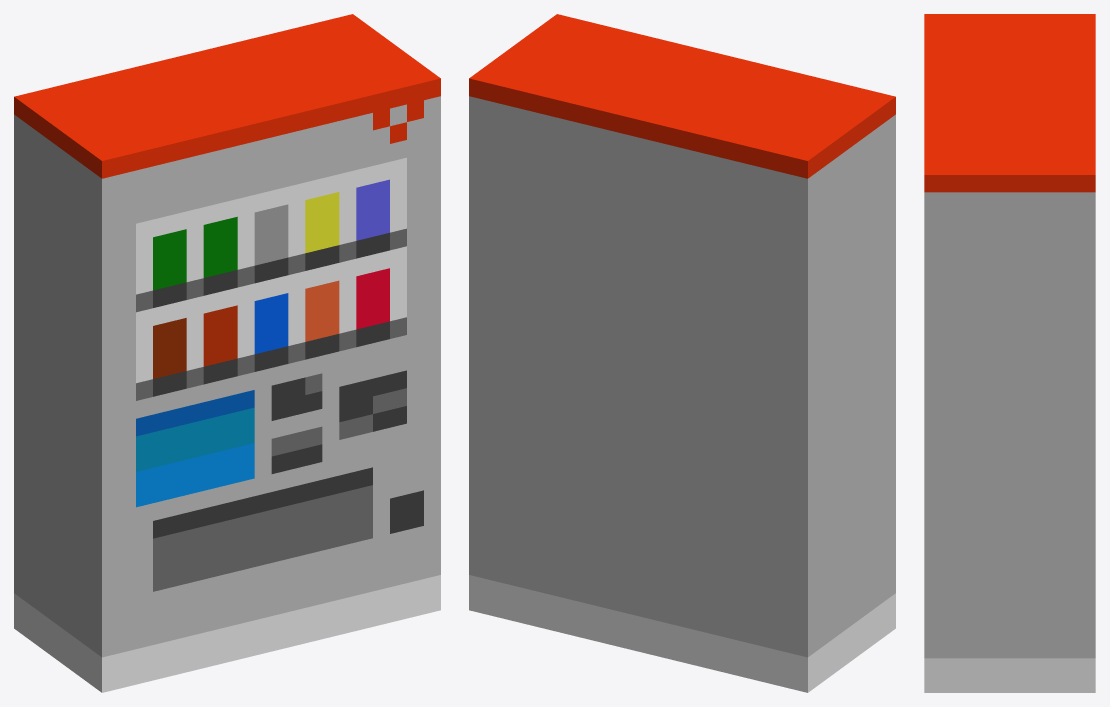
The model's file is Vending machine.fbx.
The picture shows the model from 3 angles, left to right: view 1: azimuth 30°, elevation 25°; view 2: azimuth 150°, elevation 25°; view 3: azimuth 270°, elevation 25°; orthographic projection. The views are drawn at different scales.
Parts seen in each view (by area): view 1: 立方体.5221; view 2: 立方体.5381; view 3: 立方体.5320, 立方体.5240, 立方体.5260, 立方体.5280, 立方体.5300, 立方体.5340, 立方体.5360, 立方体.5380, 立方体.5400, 立方体.100, 立方体.1000, 立方体.1020 (+258 smaller).
Part boxes in pixels (left/top/right/bottom): 立方体.5221: left=92, top=150, right=118, bottom=178; 立方体.5381: left=791, top=150, right=817, bottom=178; 立方体.5320: left=1000, top=167, right=1019, bottom=192; 立方体.5240: left=924, top=167, right=943, bottom=192; 立方体.5260: left=943, top=167, right=962, bottom=192; 立方体.5280: left=962, top=167, right=981, bottom=192; 立方体.5300: left=981, top=167, right=1000, bottom=192; 立方体.5340: left=1019, top=167, right=1038, bottom=192; 立方体.5360: left=1038, top=167, right=1057, bottom=192; 立方体.5380: left=1057, top=167, right=1076, bottom=192; 立方体.5400: left=1076, top=167, right=1095, bottom=192; 立方体.100: left=1000, top=675, right=1019, bottom=692; 立方体.1000: left=1000, top=589, right=1019, bottom=606; 立方体.1020: left=1019, top=589, right=1038, bottom=606.
Bounding box in the file's own units: 2000 × 3000 × 900.
